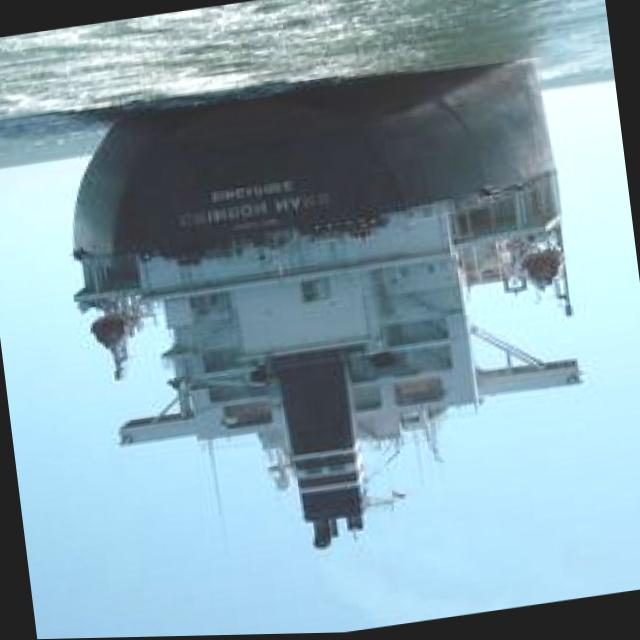ship2: (70, 60, 581, 551)
